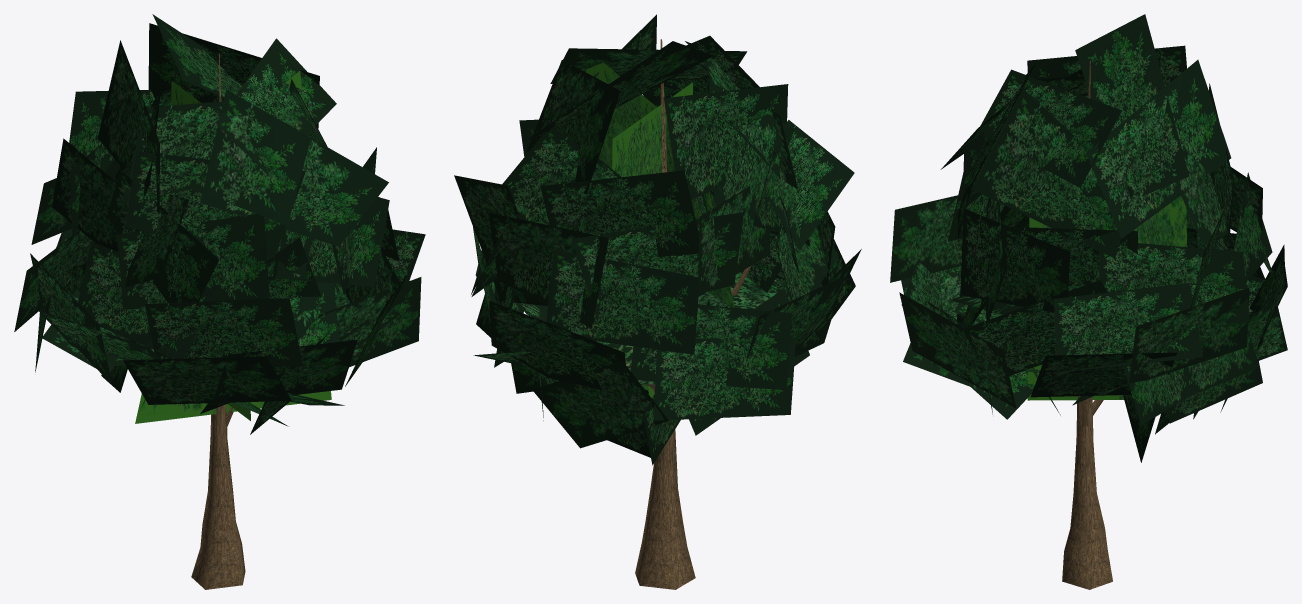
File: gen_tree_a.fbx
3 renders of one model, left to right at view 1: azimuth 30°, elevation 25°; view 2: azimuth 150°, elevation 25°; view 3: azimuth 270°, elevation 25°, orthographic. The views are drawn at different scales.
Parts seen in each view (by area): view 1: leaves_07.001, leaves_06, leaves_09, leaves_02.001, leaves_010, trunk_high5, leaves_03.001, leaves_06.001, leaves_04.001, leaves_01, leaves_05.001, leaves_05.002 (+25 smaller); view 2: leaves_04, leaves_05, leaves_01, leaves_027, leaves_029, leaves_024, leaves_011, leaves_01.002, trunk_high5, leaves_02, leaves_041, leaves_06.002 (+25 smaller); view 3: leaves_06.002, leaves_07.002, leaves_04.002, leaves_03, leaves_02.002, leaves_032, leaves_06.001, trunk_high5, leaves_038, leaves_010.001, leaves_09, leaves_08.001 (+24 smaller).
Boxes of the visible parts, bbox=[...] form: leaves_07.001: bbox=[200, 89, 388, 246]; leaves_06: bbox=[122, 101, 310, 225]; leaves_09: bbox=[145, 298, 302, 366]; leaves_02.001: bbox=[117, 214, 269, 309]; leaves_010: bbox=[123, 356, 291, 404]; trunk_high5: bbox=[191, 404, 245, 589]; leaves_03.001: bbox=[125, 151, 305, 258]; leaves_06.001: bbox=[216, 38, 336, 174]; leaves_04.001: bbox=[78, 241, 217, 361]; leaves_01: bbox=[98, 40, 159, 214]; leaves_05.001: bbox=[107, 169, 218, 302]; leaves_05.002: bbox=[276, 197, 389, 287]; leaves_04: bbox=[546, 249, 699, 354]; leaves_05: bbox=[540, 170, 698, 256]; leaves_01: bbox=[664, 84, 788, 199]; leaves_027: bbox=[653, 337, 796, 420]; leaves_029: bbox=[631, 304, 791, 390]; leaves_024: bbox=[532, 361, 668, 448]; leaves_011: bbox=[489, 301, 625, 390]; leaves_01.002: bbox=[489, 212, 608, 327]; trunk_high5: bbox=[635, 266, 750, 589]; leaves_02: bbox=[571, 212, 743, 318]; leaves_041: bbox=[768, 120, 854, 250]; leaves_06.002: bbox=[527, 60, 620, 194]; leaves_06.002: bbox=[1086, 59, 1231, 238]; leaves_07.002: bbox=[971, 89, 1133, 258]; leaves_04.002: bbox=[1053, 283, 1202, 372]; leaves_03: bbox=[1075, 14, 1189, 195]; leaves_02.002: bbox=[960, 208, 1070, 312]; leaves_032: bbox=[1099, 243, 1250, 323]; leaves_06.001: bbox=[978, 69, 1121, 187]; trunk_high5: bbox=[1062, 396, 1112, 589]; leaves_038: bbox=[1129, 287, 1249, 383]; leaves_010.001: bbox=[899, 292, 1016, 408]; leaves_09: bbox=[890, 195, 962, 282]; leaves_08.001: bbox=[962, 280, 1107, 375].
Size of the model in its own units: 4290 by 6365 by 4212.
Materials: 2 (2 with a texture image).
